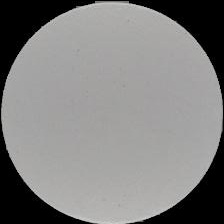35356-803: (0, 0, 224, 224)
